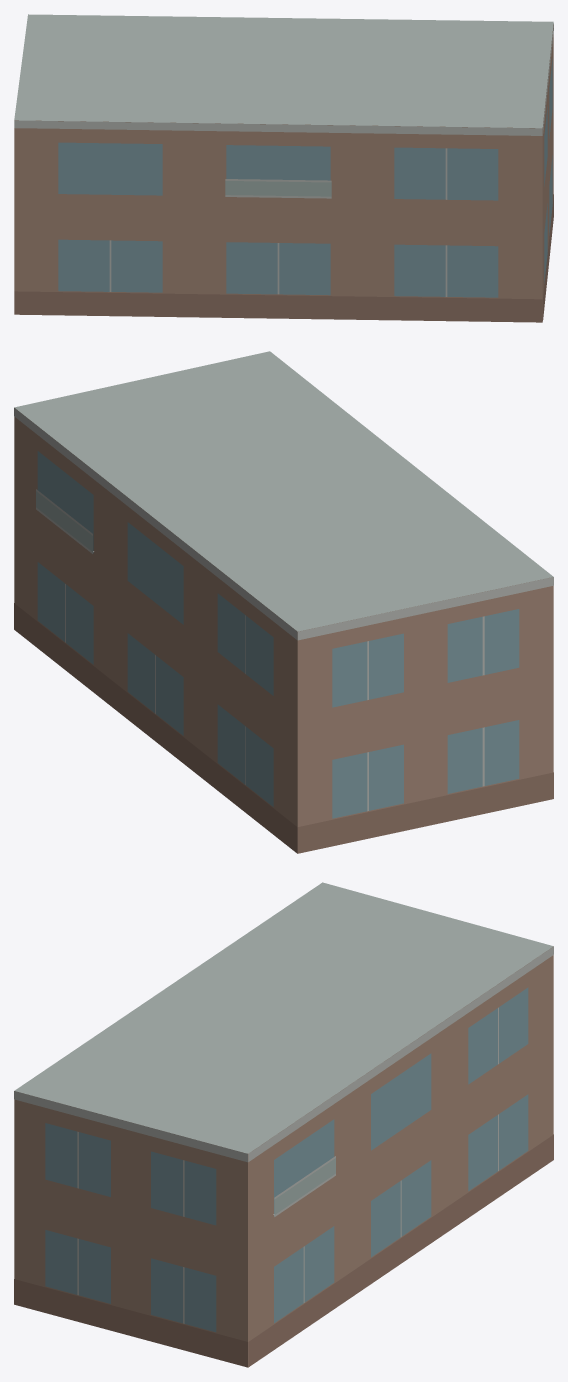
Rendered from survey-upis-33043787.glb.
3 renders of one model, top to bottom at view 1: azimuth 30°, elevation 25°; view 2: azimuth 150°, elevation 25°; view 3: azimuth 270°, elevation 25°, orthographic. The views are drawn at different scales.
Parts seen in each view (by area): view 1: survey-upis-33043787.tmp; view 2: survey-upis-33043787.tmp; view 3: survey-upis-33043787.tmp.
Part boxes in pixels (left/top/right/bottom): survey-upis-33043787.tmp: left=14, top=14, right=553, bottom=322; survey-upis-33043787.tmp: left=14, top=351, right=553, bottom=853; survey-upis-33043787.tmp: left=14, top=882, right=553, bottom=1367.
Size of the model in its own units: 16.63 by 6.1 by 13.97.
